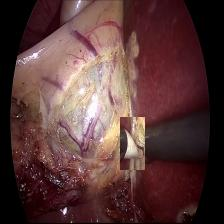Hook: (120, 117, 145, 170)
